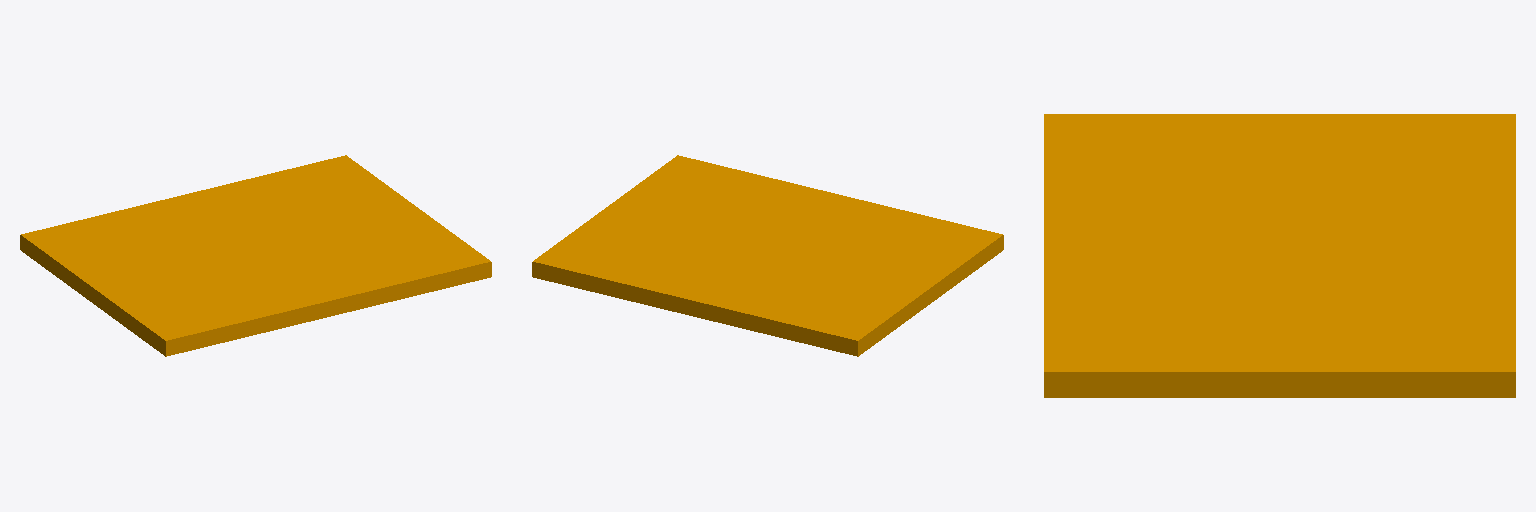
URDF robot description (e3bae8da192ab3d4a17ae19fa77775ff):
<?xml version='1.0' encoding='utf-8'?>
<robot name="e3bae8da192ab3d4a17ae19fa77775ff" version="1.0">
  <link name="base_link">
    <inertial>
      <origin rpy="0.0 0.0 0.0" xyz="0.0 0.0 0.0" />
      <mass value="1.0562898801609841" />
      <inertia ixx="0.001" ixy="0.0" ixz="0.0" iyy="0.001" iyz="0.0" izz="0.001" />
    </inertial>
    <visual>
      <origin rpy="0 0 0" xyz="0 -0.005 -0.092212" />
      <geometry>
        <box size="0.21559999999999999 0.1666 0.01" />
      </geometry>
    </visual>
    <collision>
      <origin rpy="0 0 0" xyz="0 -0.005 -0.092212" />
      <geometry>
        <box size="0.21559999999999999 0.1666 0.01" />
      </geometry>
    </collision>
    <visual name="e3bae8da192ab3d4a17ae19fa77775ff___1">
      <origin rpy="0.0 0.0 0.0" xyz="0.0 -0.0 0.0" />
      <geometry>
        <mesh filename="shape/visual/e3bae8da192ab3d4a17ae19fa77775ff_m1_vm.encrypted.obj" />
      </geometry>
    </visual>
    <collision>
      <origin rpy="0.0 0.0 0.0" xyz="0.0 -0.0 0.0" />
      <geometry>
        <mesh filename="shape/collision/e3bae8da192ab3d4a17ae19fa77775ff_cm.obj" />
      </geometry>
    </collision>
  </link>
</robot>

--- Render facts (derived) ---
The picture shows the robot from 3 angles, left to right: view 1: azimuth 30°, elevation 25°; view 2: azimuth 150°, elevation 25°; view 3: azimuth 270°, elevation 25°; orthographic projection.
Model e3bae8da192ab3d4a17ae19fa77775ff with 1 links and 0 joints (none), rooted at base_link, posed every joint at zero.
Visible links, largest first — view 1: base_link; view 2: base_link; view 3: base_link.
Link boxes in pixels (bbox=[...]): base_link: bbox=[20, 155, 491, 356]; base_link: bbox=[532, 155, 1003, 356]; base_link: bbox=[1044, 114, 1515, 397].
Bounding box of the posed robot: 0.2156 × 0.1666 × 0.01 m (x, y, z).
0 mesh visuals loaded from 1 distinct referenced files (none loaded); not drawn: 1 (file found but could not be loaded).